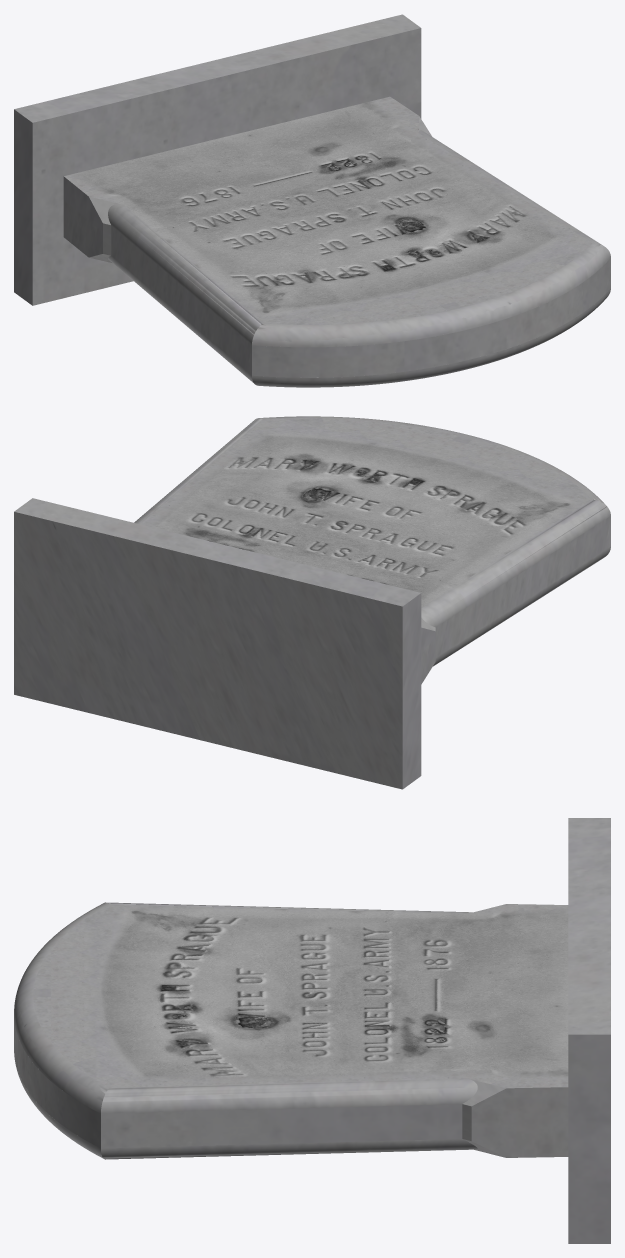
3 renders of one model, top to bottom at view 1: azimuth 30°, elevation 25°; view 2: azimuth 150°, elevation 25°; view 3: azimuth 270°, elevation 25°, orthographic. The views are drawn at different scales.
Parts seen in each view (by area): view 1: PA-87-F_LOD0; view 2: PA-87-F_LOD0; view 3: PA-87-F_LOD0.
Boxes of the visible parts, x1=… form: PA-87-F_LOD0: x1=14, y1=14, x2=610, y2=387; PA-87-F_LOD0: x1=14, y1=416, x2=610, y2=789; PA-87-F_LOD0: x1=14, y1=818, x2=610, y2=1243.
Size of what is drawn, in the model's own units: 67.74 by 30.48 by 78.84.
